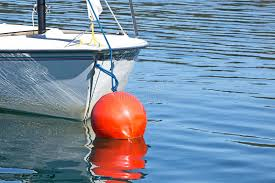buoy: (92, 91, 148, 144)
